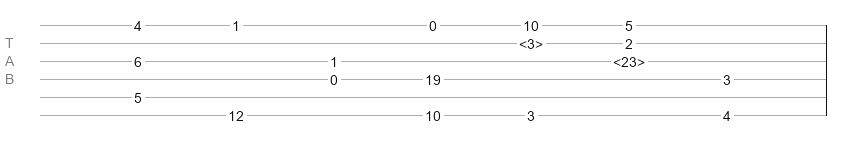0: (330, 72, 338, 82), (429, 18, 437, 28)
1: (232, 18, 240, 28), (330, 54, 338, 64)
10: (425, 108, 441, 118), (523, 18, 539, 28)
12: (228, 108, 244, 118)
19: (425, 72, 441, 82)
2: (625, 36, 633, 46)
3: (527, 108, 535, 118), (723, 72, 731, 82)
4: (134, 18, 142, 28), (723, 108, 731, 118)
5: (134, 90, 142, 100), (625, 18, 633, 28)
6: (134, 54, 142, 64)
harmonic: (613, 54, 645, 64), (519, 36, 543, 46)
